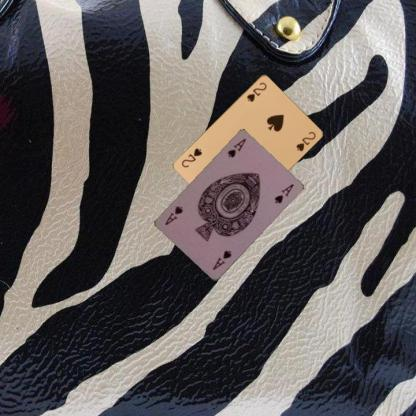2s: (244, 79, 268, 103)
As: (210, 248, 233, 271), (225, 136, 247, 159)
